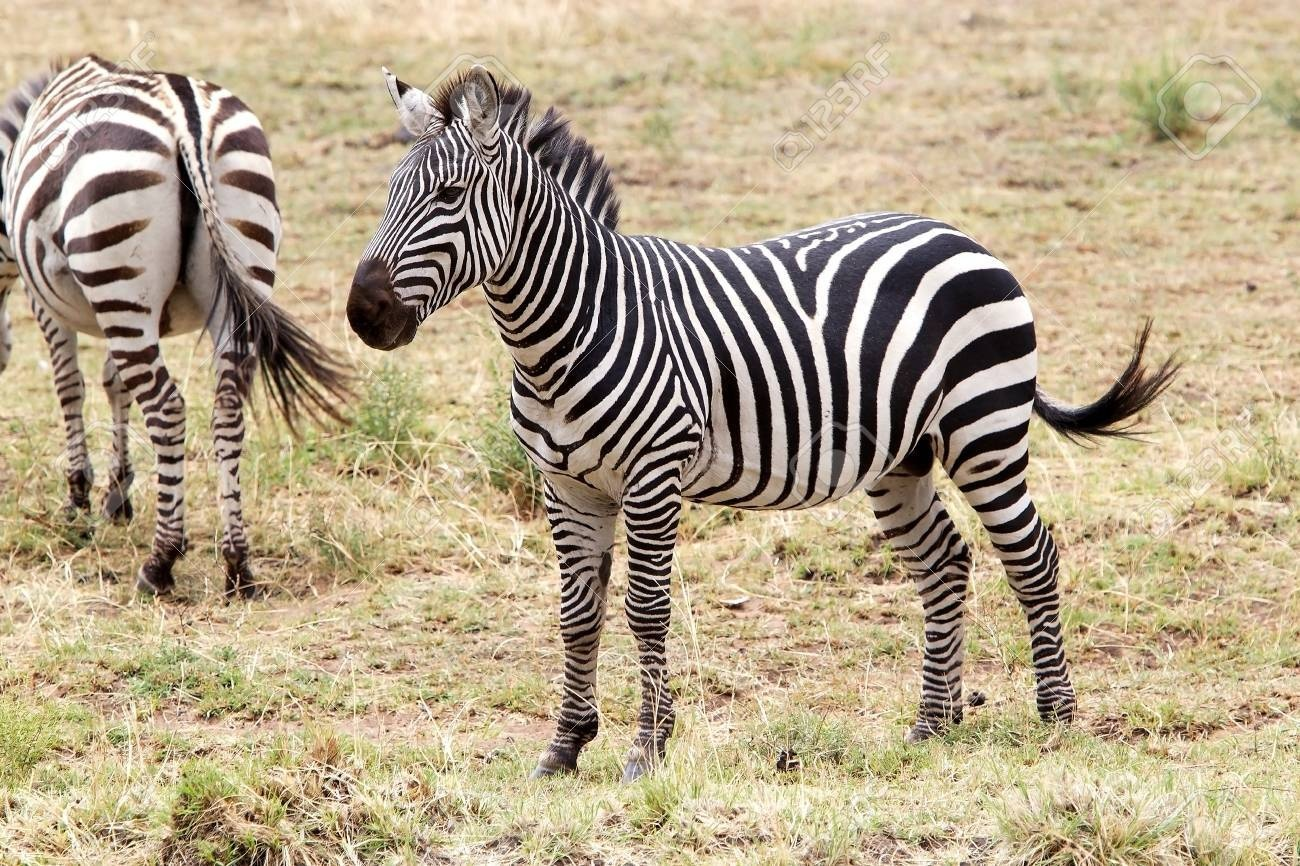zebra: (342, 62, 1177, 761), (4, 46, 338, 599)
